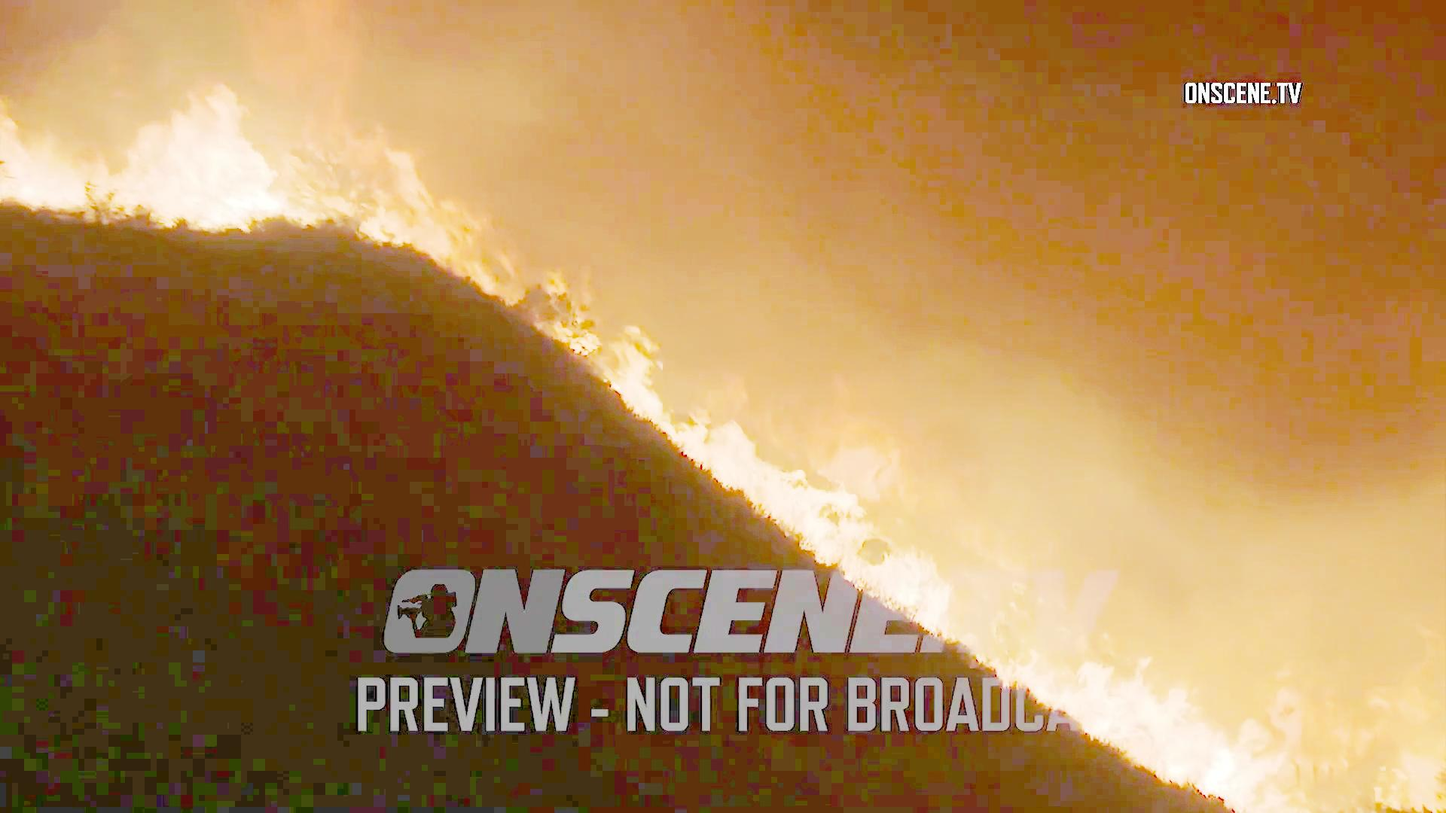fire: (221, 0, 471, 243), (1077, 653, 1446, 809), (0, 62, 273, 225), (811, 368, 962, 627), (733, 418, 862, 542)
